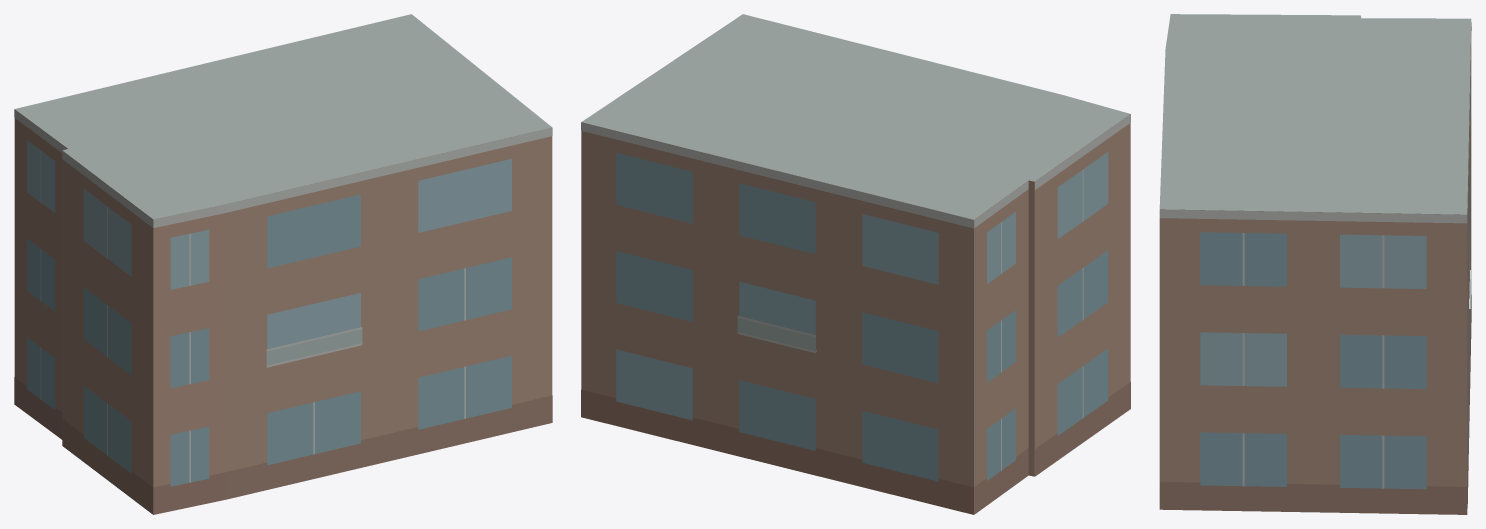
Rendered from survey-upis-32703159.glb.
3 renders of one model, left to right at view 1: azimuth 30°, elevation 25°; view 2: azimuth 150°, elevation 25°; view 3: azimuth 270°, elevation 25°, orthographic.
Visible parts, largest first — view 1: survey-upis-32703159.tmp; view 2: survey-upis-32703159.tmp; view 3: survey-upis-32703159.tmp.
Part boxes in pixels (x1,y1,x2,y2): survey-upis-32703159.tmp: [14, 14, 552, 514]; survey-upis-32703159.tmp: [581, 14, 1130, 514]; survey-upis-32703159.tmp: [1159, 14, 1471, 514].
Bounding box in the file's own units: 11.9 × 8.3 × 7.82.
